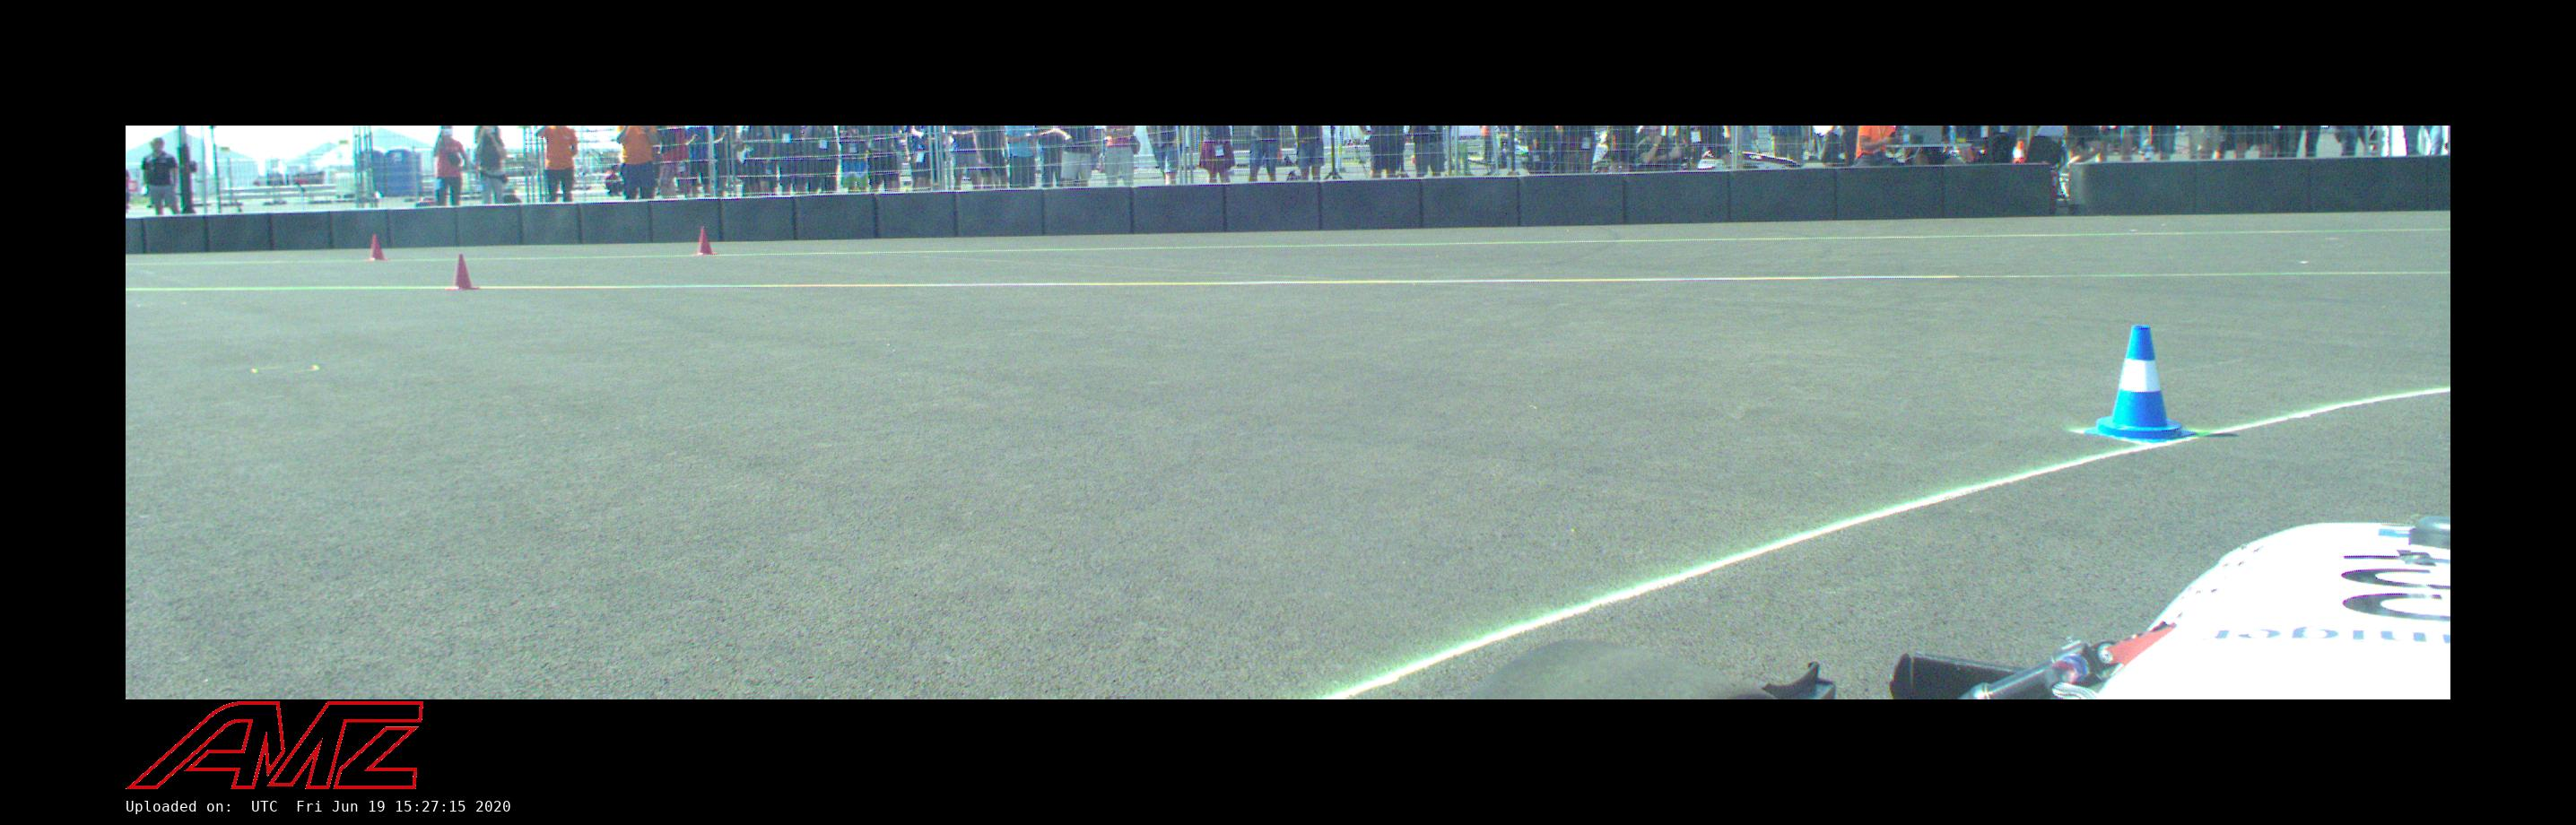blue_cone: (2085, 325, 2196, 444)
unknown_cone: (447, 255, 478, 289), (690, 228, 716, 256), (365, 233, 389, 260)
